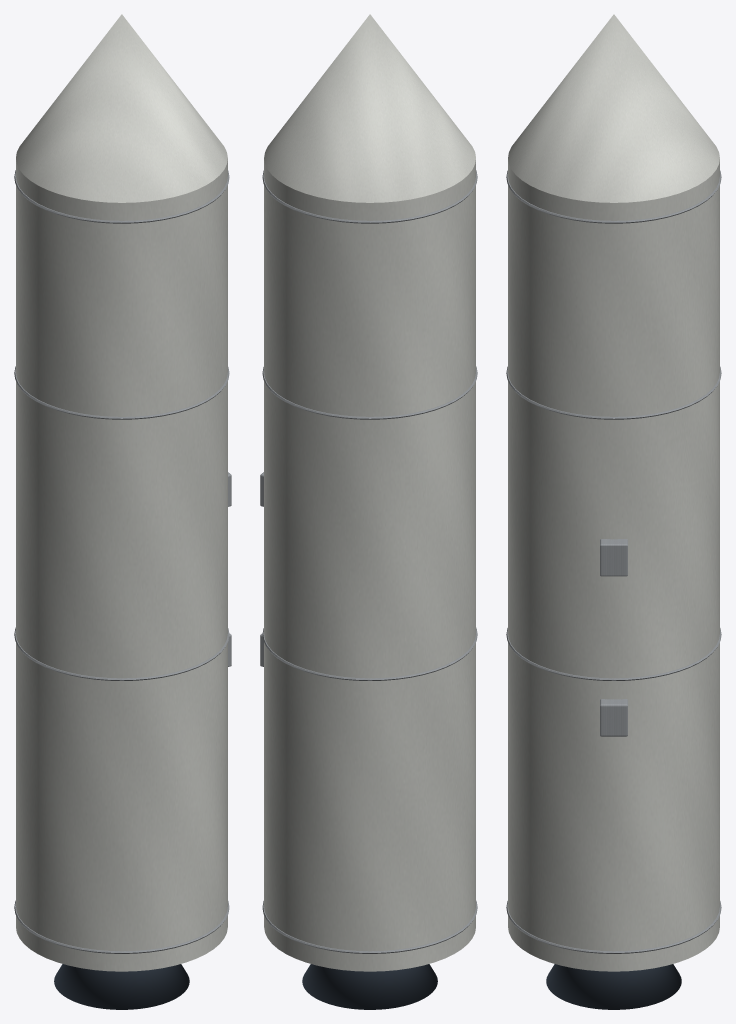
The model's file is booster_heavy.glb.
3 renders of one model, left to right at view 1: azimuth 30°, elevation 25°; view 2: azimuth 150°, elevation 25°; view 3: azimuth 270°, elevation 25°, orthographic.
Parts seen in each view (by area): view 1: Booster_Casing.002, Booster_Nose.002, Booster_Nozzle.002, Booster_CaseSeam.011, Booster_CaseSeam.010, Booster_CaseSeam.008, Booster_CaseSeam.009; view 2: Booster_Casing.002, Booster_Nose.002, Booster_Nozzle.002, Booster_CaseSeam.011, Booster_CaseSeam.010, Booster_CaseSeam.008, Booster_CaseSeam.009; view 3: Booster_Casing.002, Booster_Nose.002, Booster_Nozzle.002, Booster_AttachmentLug.004, Booster_AttachmentLug.005, Booster_CaseSeam.011, Booster_CaseSeam.010, Booster_CaseSeam.008, Booster_CaseSeam.009.
Part boxes in pixels (left/top/right/bottom): Booster_Casing.002: left=16, top=159, right=227, bottom=971; Booster_Nose.002: left=16, top=14, right=227, bottom=202; Booster_Nozzle.002: left=54, top=964, right=189, bottom=1009; Booster_CaseSeam.011: left=14, top=170, right=229, bottom=223; Booster_CaseSeam.010: left=14, top=366, right=229, bottom=419; Booster_CaseSeam.008: left=14, top=900, right=229, bottom=953; Booster_CaseSeam.009: left=14, top=627, right=229, bottom=680; Booster_Casing.002: left=264, top=159, right=475, bottom=971; Booster_Nose.002: left=264, top=14, right=475, bottom=202; Booster_Nozzle.002: left=302, top=964, right=437, bottom=1009; Booster_CaseSeam.011: left=262, top=170, right=477, bottom=223; Booster_CaseSeam.010: left=262, top=366, right=477, bottom=419; Booster_CaseSeam.008: left=262, top=900, right=477, bottom=953; Booster_CaseSeam.009: left=262, top=627, right=477, bottom=680; Booster_Casing.002: left=508, top=159, right=719, bottom=971; Booster_Nose.002: left=508, top=14, right=719, bottom=202; Booster_Nozzle.002: left=546, top=964, right=681, bottom=1009; Booster_AttachmentLug.004: left=600, top=699, right=627, bottom=736; Booster_AttachmentLug.005: left=600, top=539, right=627, bottom=576; Booster_CaseSeam.011: left=506, top=170, right=721, bottom=223; Booster_CaseSeam.010: left=506, top=366, right=721, bottom=419; Booster_CaseSeam.008: left=506, top=901, right=721, bottom=953; Booster_CaseSeam.009: left=506, top=628, right=721, bottom=680.
Bounding box in the file's own units: 1.28 × 6.04 × 1.22.
3 materials, 2 textured.
